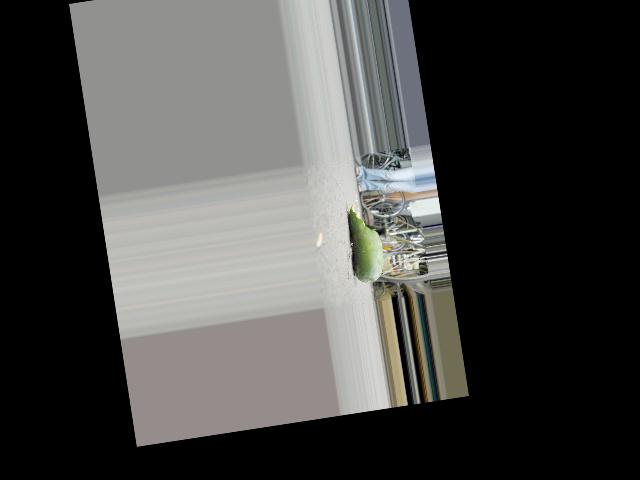cucumber: (344, 200, 387, 284)
